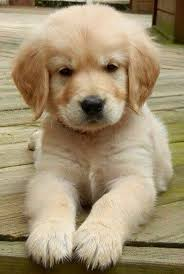Golden Retriever: (10, 3, 178, 271)
